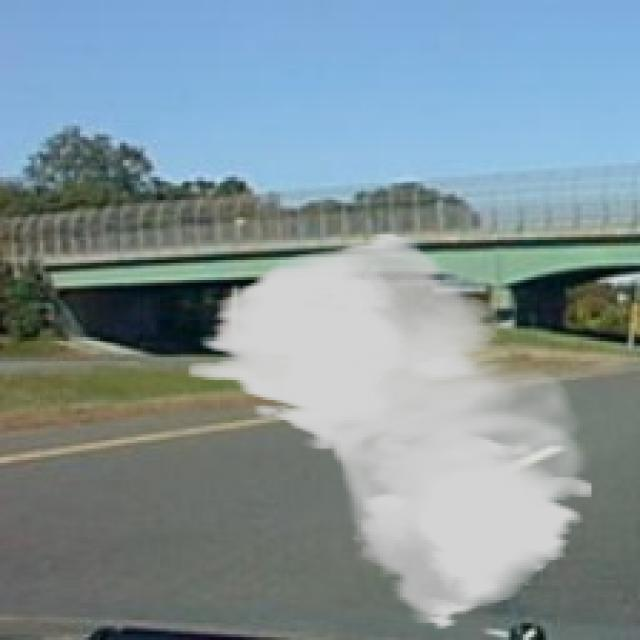smoke: (189, 232, 594, 632)
